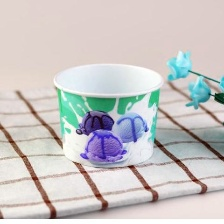paper_cup: (47, 58, 168, 171)
